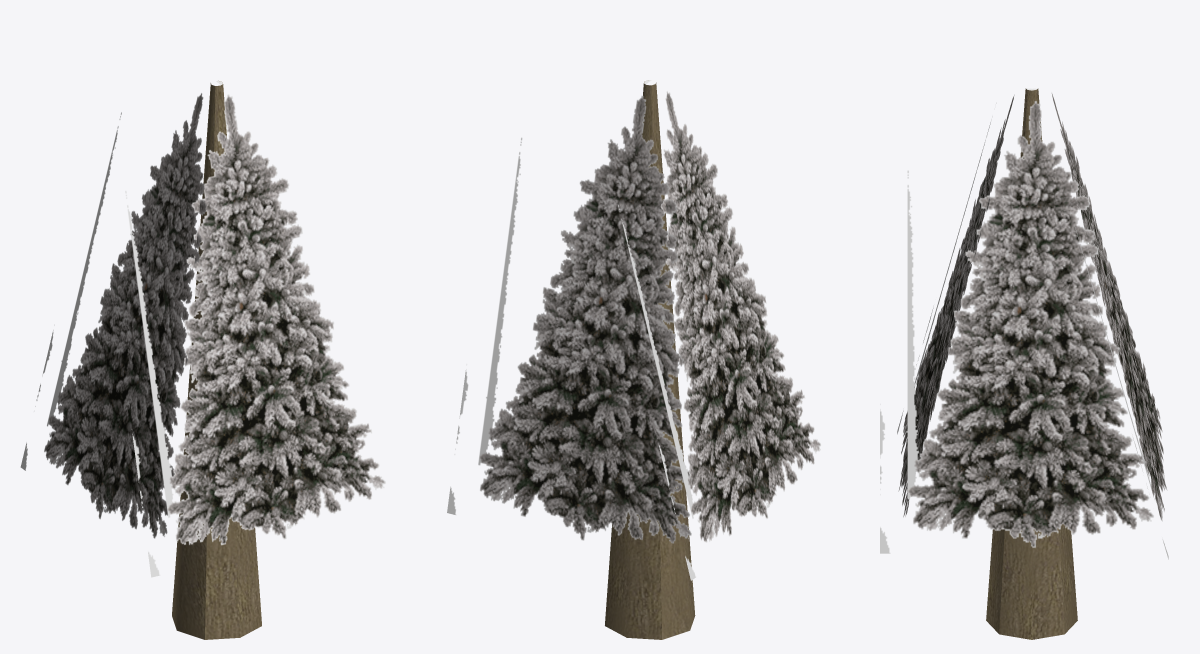
The model's file is pine_snow.gltf.
The picture shows the model from 3 angles, left to right: view 1: azimuth 30°, elevation 25°; view 2: azimuth 150°, elevation 25°; view 3: azimuth 270°, elevation 25°; orthographic projection.
Visible parts, largest first — view 1: Plane002; view 2: Plane002; view 3: Plane002.
Part boxes in pixels (bbox=[...]): Plane002: bbox=[20, 80, 385, 639]; Plane002: bbox=[447, 80, 820, 639]; Plane002: bbox=[880, 88, 1168, 639].
Size of the model in its own units: 100 by 195 by 100.
Materials: 1 (1 with a texture image).
